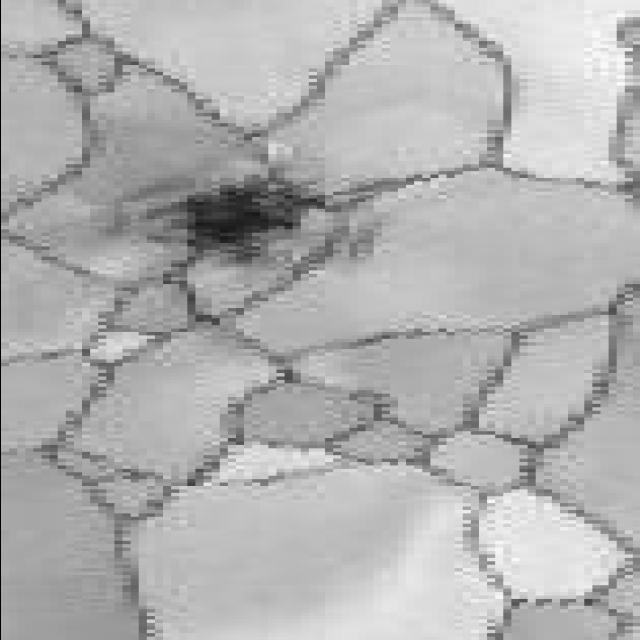good_void: (106, 179, 333, 269)
